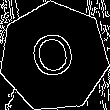O_S: (26, 26, 82, 88)
